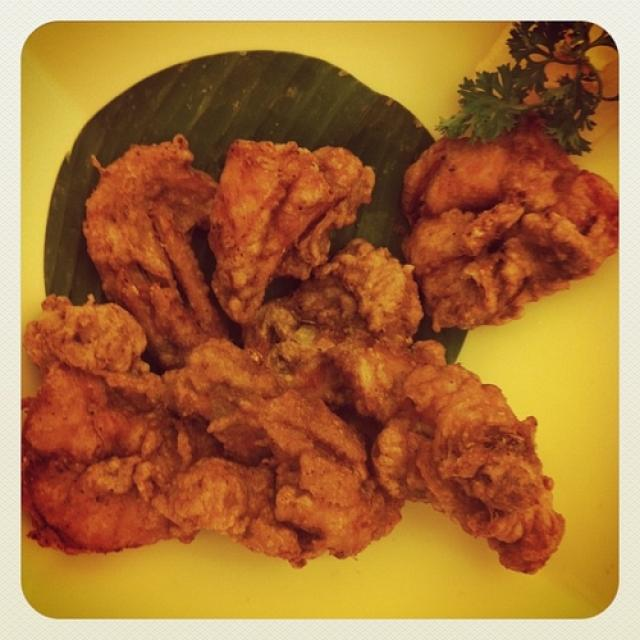鸡肉料理 含炸鸡: (40, 53, 608, 599)
